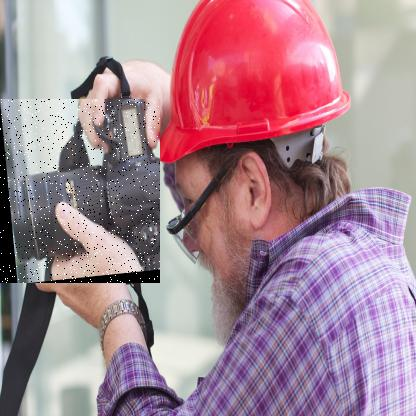Camera: (1, 100, 162, 285)
